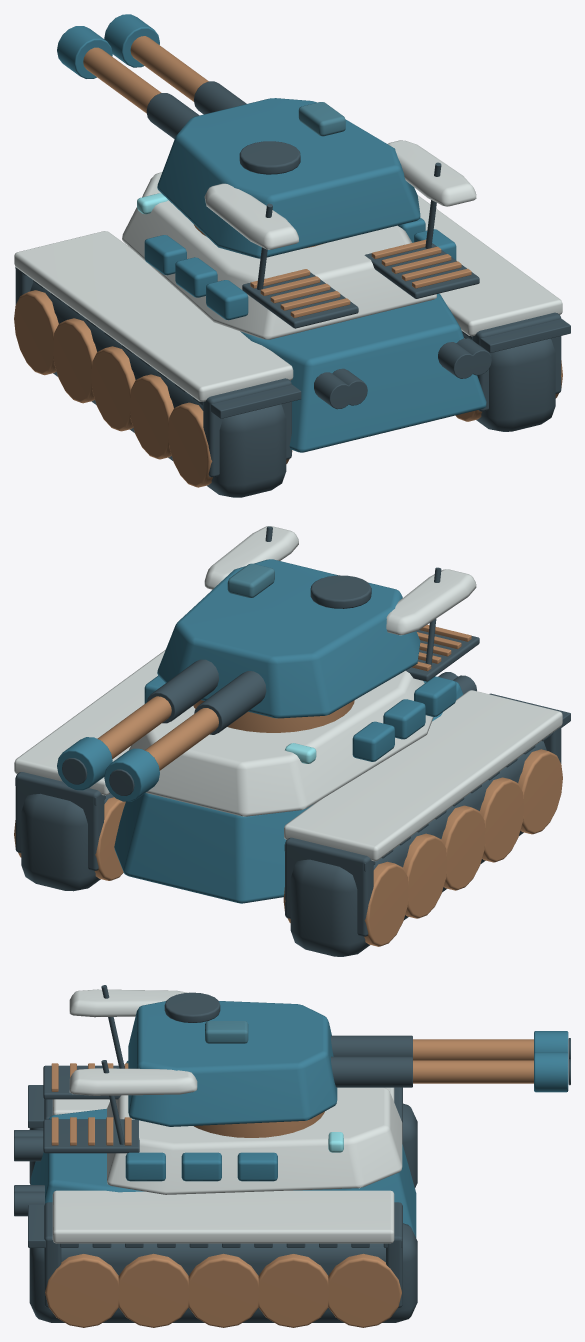
The model's file is KestrelTank115.fbx.
The picture shows the model from 3 angles, top to bottom: view 1: azimuth 30°, elevation 25°; view 2: azimuth 150°, elevation 25°; view 3: azimuth 270°, elevation 25°; orthographic projection. The views are drawn at different scales.
Visible parts, largest first — view 1: Faceted turret, Cast lower hull, Overhanging fender, Sloped glacis, Recessed track drive, Overhanging fender.001, Recessed track drive.001, Swept stabilizer, Swept stabilizer.001, Suspension road wheel.008, Suspension road wheel.004, Suspension road wheel.002 (+23 smaller); view 2: Faceted turret, Overhanging fender, Sloped glacis, Cast lower hull, Recessed track drive, Recessed track drive.001, Overhanging fender.001, Swept stabilizer, Angular mud guard.001, Angular mud guard.003, Suspension road wheel, Suspension road wheel.006 (+20 smaller); view 3: Faceted turret, Overhanging fender.001, Sloped glacis, Recessed track drive.001, Cast lower hull, Suspension road wheel.019, Suspension road wheel.011, Suspension road wheel.013, Suspension road wheel.015, Suspension road wheel.017, Swept stabilizer.001, Rifled long barrel.001 (+22 smaller).
Boxes of the visible parts, box(x1,y1,x2,y2) form: Faceted turret: box(157, 98, 420, 258); Cast lower hull: box(240, 293, 486, 452); Overhanging fender: box(14, 231, 293, 401); Sloped glacis: box(122, 172, 436, 339); Recessed track drive: box(30, 282, 286, 497); Overhanging fender.001: box(417, 195, 562, 336); Recessed track drive.001: box(462, 331, 555, 431); Swept stabilizer: box(204, 183, 298, 249); Swept stabilizer.001: box(388, 140, 476, 206); Suspension road wheel.008: box(14, 290, 58, 375); Suspension road wheel.004: box(91, 346, 135, 431); Suspension road wheel.002: box(129, 374, 173, 459); Faceted turret: box(157, 559, 420, 718); Overhanging fender: box(284, 690, 562, 861); Sloped glacis: box(128, 670, 433, 816); Cast lower hull: box(114, 676, 463, 903); Recessed track drive: box(290, 741, 546, 956); Recessed track drive.001: box(21, 793, 113, 891); Overhanging fender.001: box(14, 649, 165, 795); Swept stabilizer: box(386, 569, 476, 635); Angular mud guard.001: box(285, 837, 373, 936); Angular mud guard.003: box(15, 772, 104, 870); Suspension road wheel: box(518, 749, 562, 834); Suspension road wheel.006: box(403, 833, 447, 918); Faceted turret: box(128, 1001, 337, 1126); Overhanging fender.001: box(52, 1190, 394, 1243); Sloped glacis: box(107, 1087, 402, 1194); Recessed track drive.001: box(29, 1223, 417, 1322); Cast lower hull: box(30, 1108, 416, 1237); Suspension road wheel.019: box(327, 1253, 401, 1327); Suspension road wheel.011: box(45, 1254, 119, 1327); Suspension road wheel.013: box(118, 1253, 189, 1327); Suspension road wheel.015: box(187, 1253, 259, 1327); Suspension road wheel.017: box(257, 1254, 329, 1327); Swept stabilizer.001: box(69, 1068, 197, 1095); Rifled long barrel.001: box(413, 1060, 533, 1083).
Size of the model in its own units: 246 by 175 by 359.
